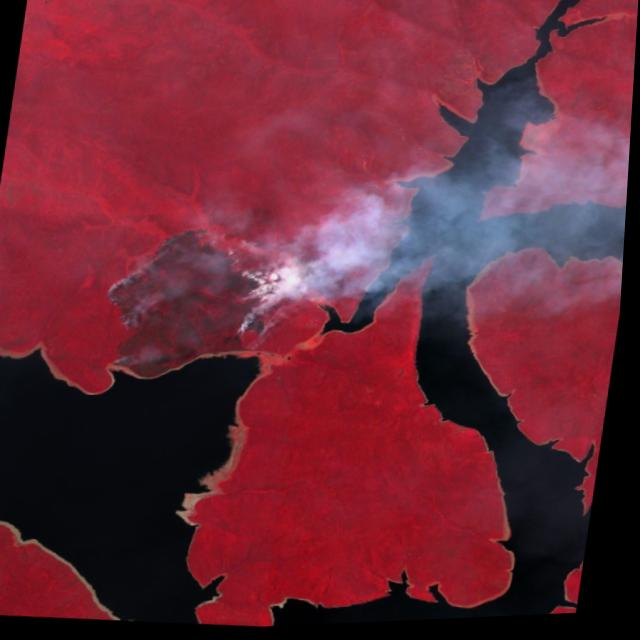fire: (96, 214, 291, 397)
